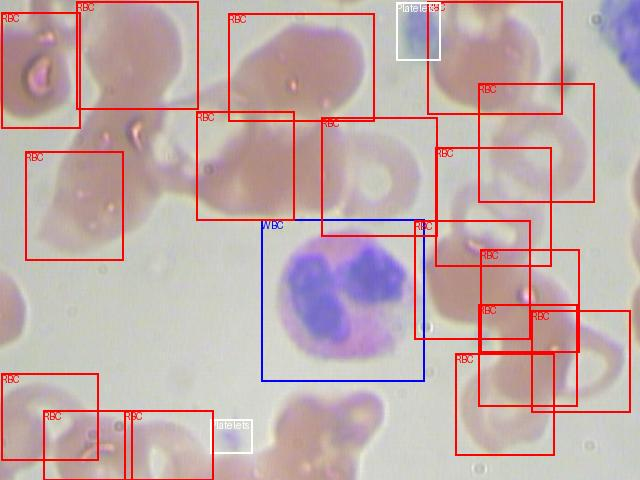Platelets: (396, 2, 440, 60), (210, 419, 252, 453)
RBC: (228, 13, 374, 121), (427, 1, 562, 114), (321, 117, 437, 236), (478, 83, 594, 202), (435, 147, 551, 266), (414, 220, 530, 339), (76, 1, 198, 109), (196, 111, 294, 220), (25, 151, 123, 260), (480, 249, 579, 352), (478, 304, 577, 406), (455, 353, 554, 455), (531, 310, 630, 412), (1, 12, 80, 128), (1, 373, 98, 460), (43, 410, 132, 480), (124, 410, 213, 480)
WBC: (261, 219, 424, 381)
